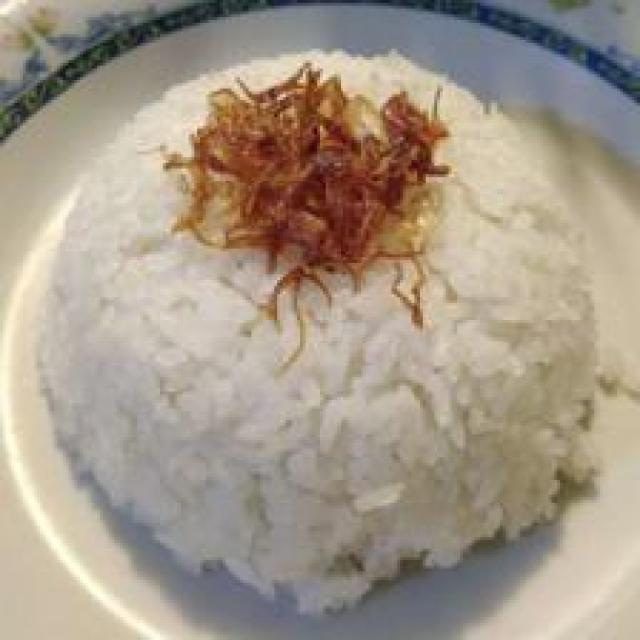Wet Waste: (39, 46, 605, 615)
